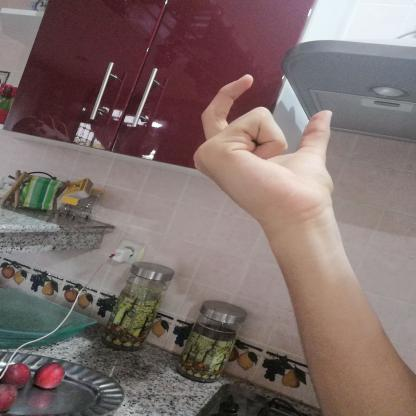NOON: (181, 65, 351, 228)
